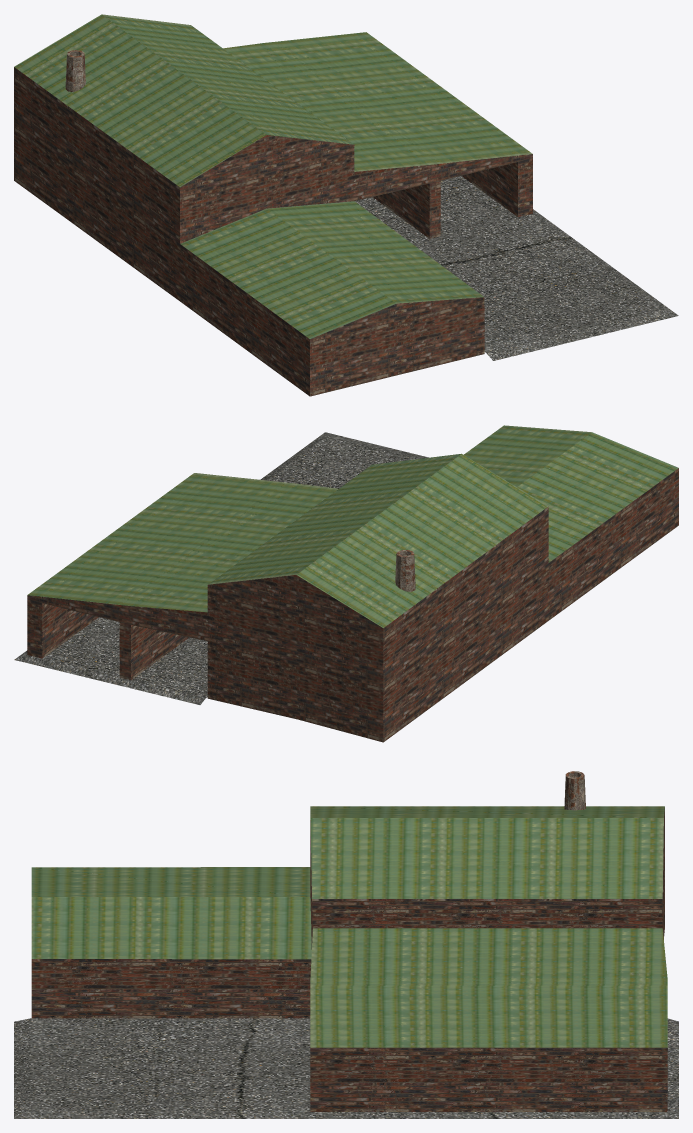
File: workshop.glb
The picture shows the model from 3 angles, top to bottom: view 1: azimuth 30°, elevation 25°; view 2: azimuth 150°, elevation 25°; view 3: azimuth 270°, elevation 25°; orthographic projection. The views are drawn at different scales.
Parts seen in each view (by area): view 1: Building-col, Plane, Chimney; view 2: Building-col, Plane, Chimney; view 3: Building-col, Plane, Chimney.
Boxes of the visible parts, x1,y1,x2,y2 form: Building-col: (14,14,532,396); Plane: (355,176,678,360); Chimney: (65,50,85,91); Building-col: (27,425,678,742); Plane: (14,432,428,704); Chimney: (395,550,415,591); Building-col: (31,806,667,1111); Plane: (14,1018,678,1118); Chimney: (564,771,585,810).
Bounding box in the file's own units: 31.7 × 12.89 × 47.09.
5 materials, 5 textured.
